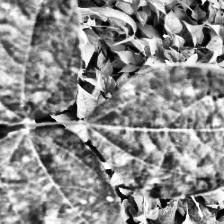ALS: (100, 68, 224, 197), (0, 128, 157, 224), (0, 0, 82, 121)
